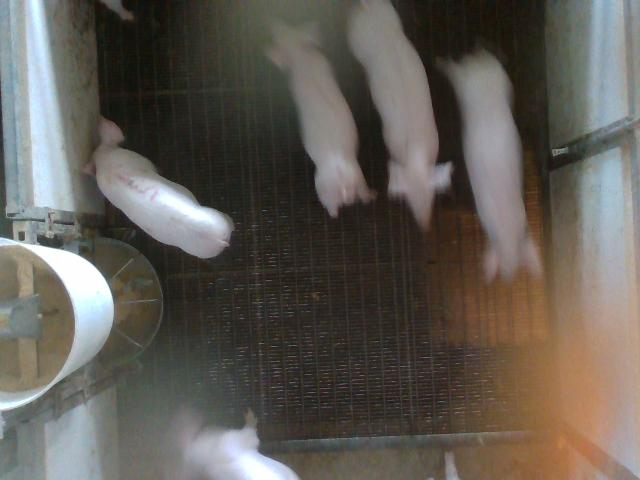pig-3: (86, 116, 234, 258)
